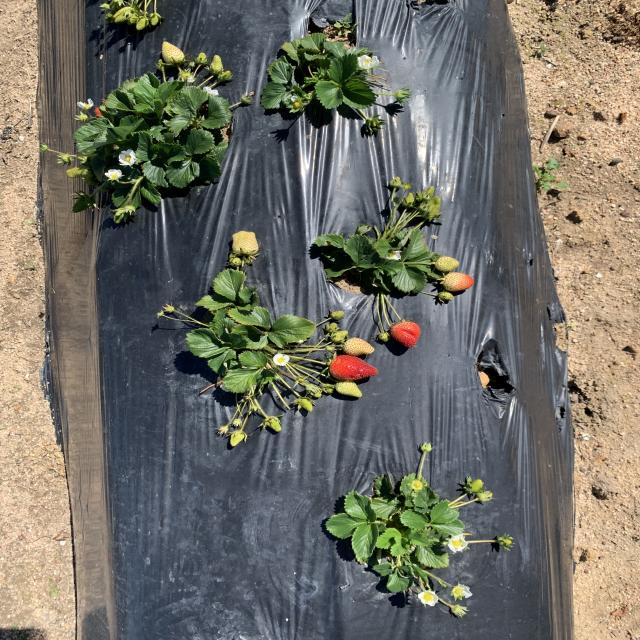unripe: (330, 354, 379, 383), (389, 323, 424, 349)
